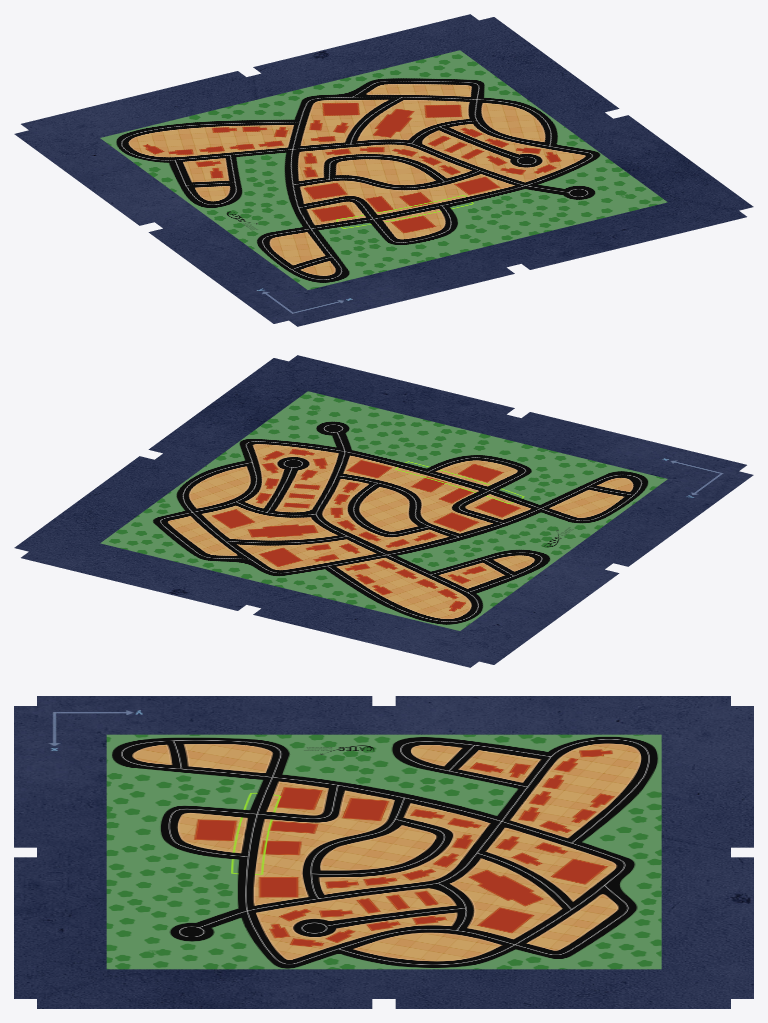
File: TestbedLona.dae
The picture shows the model from 3 angles, top to bottom: view 1: azimuth 30°, elevation 25°; view 2: azimuth 150°, elevation 25°; view 3: azimuth 270°, elevation 25°; orthographic projection. The views are drawn at different scales.
Parts seen in each view (by area): view 1: Plane001, ARCAS_PipesScenario; view 2: Plane001, ARCAS_PipesScenario; view 3: Plane001, ARCAS_PipesScenario.
Part boxes in pixels (<box>): Plane001: <box>100,50,667,289</box>; ARCAS_PipesScenario: <box>14,14,753,326</box>; Plane001: <box>100,391,667,630</box>; ARCAS_PipesScenario: <box>14,355,753,667</box>; Plane001: <box>106,734,661,969</box>; ARCAS_PipesScenario: <box>14,696,753,1008</box>.
Bounding box in the file's own units: 16 × 16 × 0.01.
Materials: 2 (2 with a texture image).
